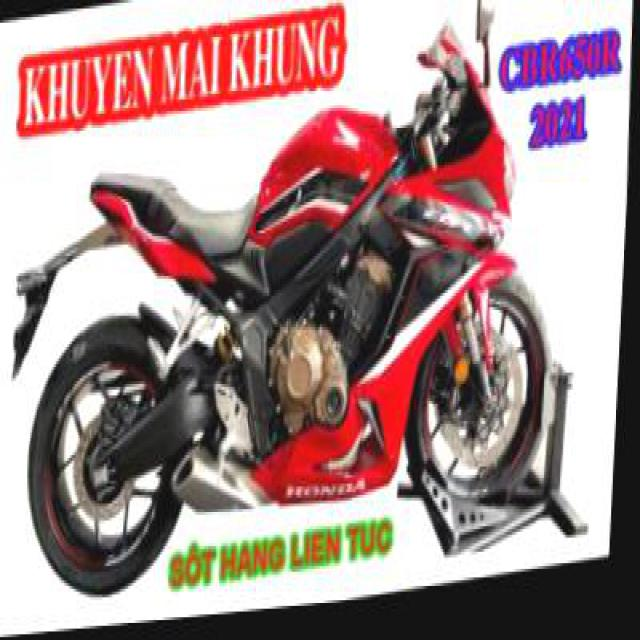CBR650R: (16, 13, 573, 613)
